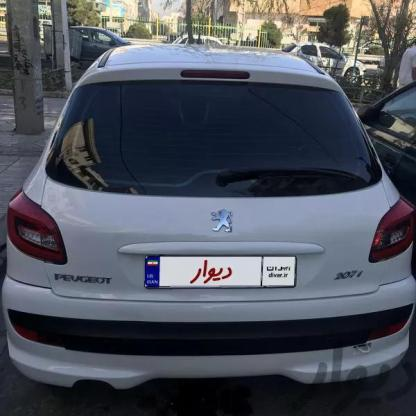Car: (0, 32, 416, 416), (352, 78, 412, 196), (37, 26, 164, 72), (271, 40, 369, 79)
